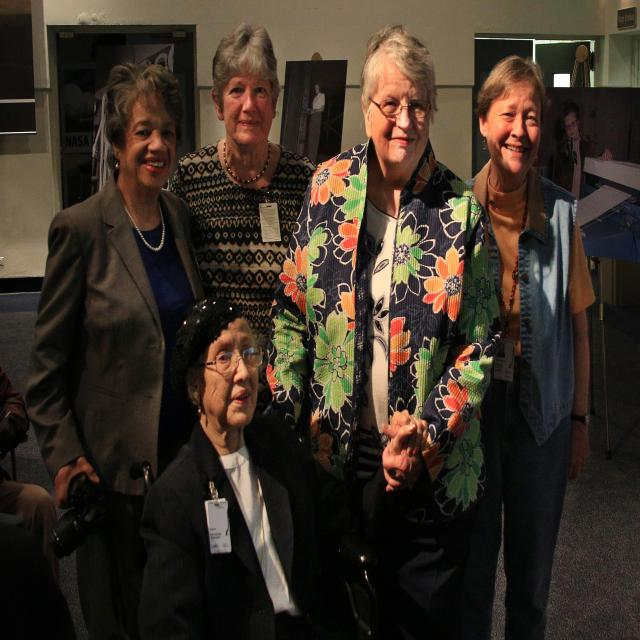body: (265, 16, 510, 640), (23, 57, 210, 640), (137, 284, 371, 640), (459, 52, 593, 640), (169, 20, 320, 392), (0, 364, 54, 604), (556, 101, 636, 212)
